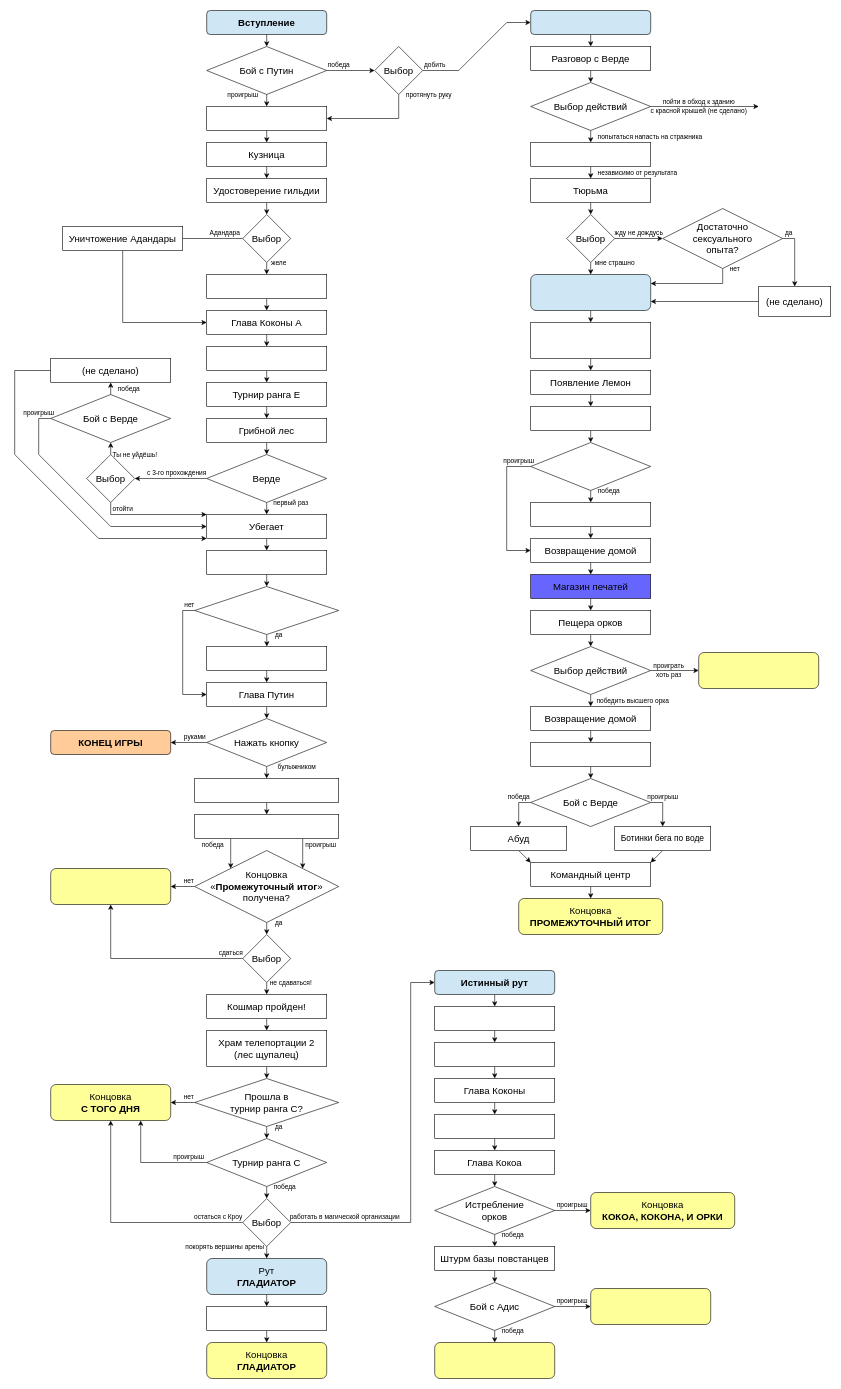
Some shapes in this 841 by 1389 pixel diagram are drawn without their labels. Each missing label, with the centre of its shape:
Бой: point 590,154
Бой с вампиром: point 590,466
Бой с призраком кошмара: point 266,826
Два загадочных фрагмента: point 266,790
Захват базы повстанцев: point 590,754
Концовка КОКОА И ОРКИ: point 758,670
Концовка НЕВЕСТА КОШМАРА: point 110,886
Концовка НОВОЕ НАЧАЛО: point 494,1360
Концовка ОДИНОЧЕСТВО: point 650,1306
Лес слизней: point 266,358
Отчёт Кроу: point 266,562
Охота на вампиров: point 590,418
Пещера испытаний: point 494,1054
Поиск Кроу: point 590,514
Пробы воды: point 494,1018
Прошла в турнир ранга D?: point 266,610
Руины Лемурии: point 494,1126
Рут B: point 590,22
Рут ИСКУПЛЕНИЕ: point 590,292
Сбор желе: point 266,286
Сбор лекарственных грибов: point 590,340
Сбор ягод в лесу: point 266,118
Турнир ранга D: point 266,658
Храм телепортации 3: point 266,1318
